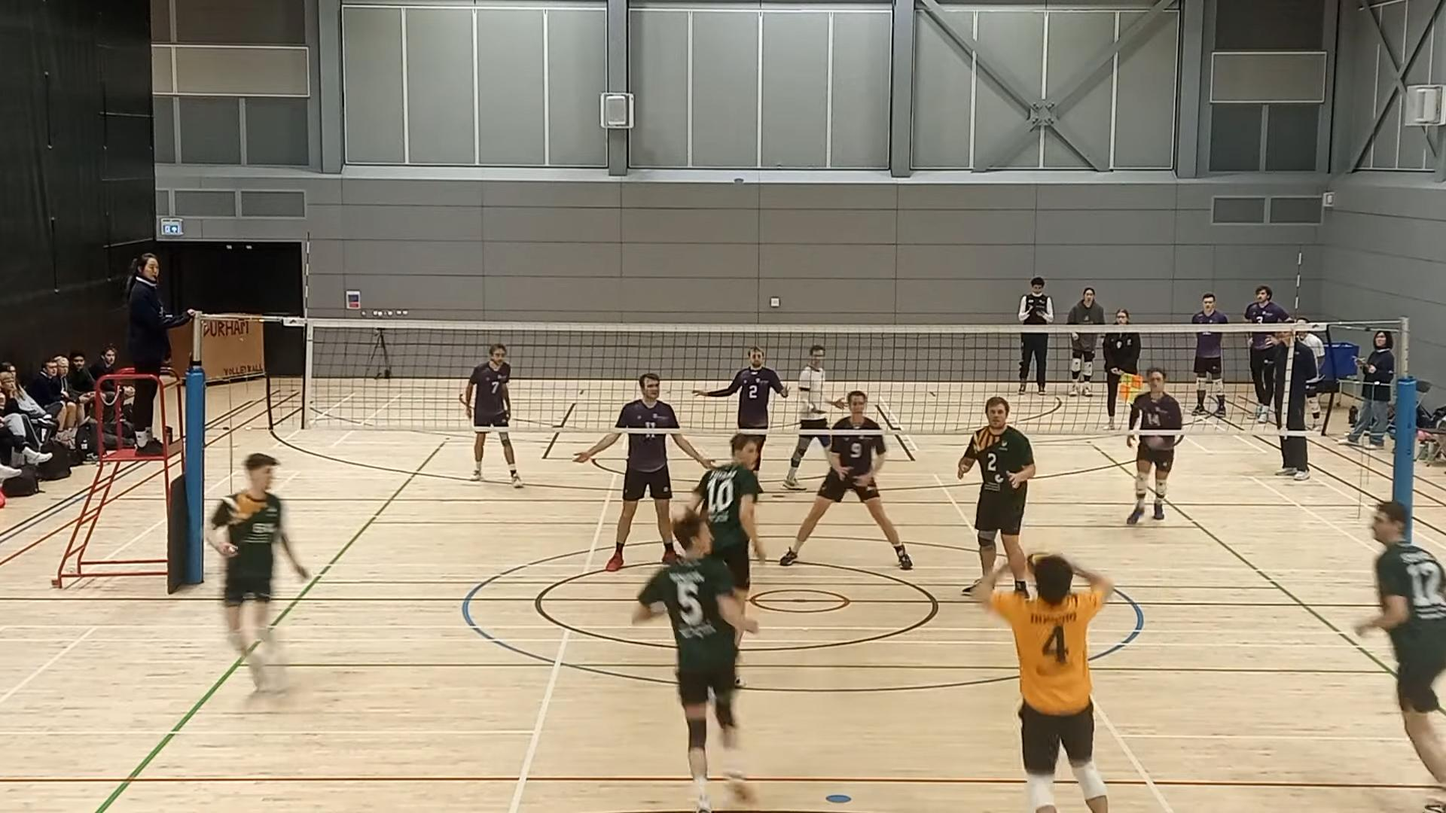Player: (633, 510, 758, 812), (1356, 501, 1445, 786), (207, 453, 307, 690), (779, 391, 911, 570), (956, 396, 1035, 593), (691, 433, 766, 610), (606, 432, 676, 571), (783, 344, 847, 489), (459, 343, 522, 487), (694, 346, 788, 429)
Receive: (977, 552, 1128, 813)
